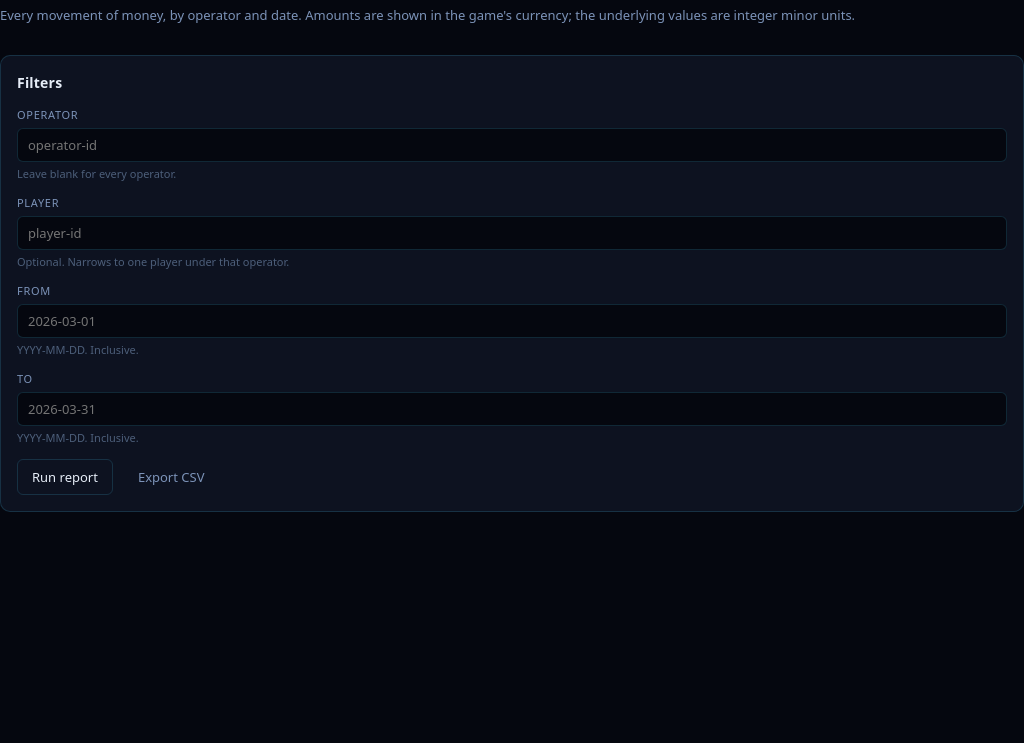
Test case: running a report › shows money as money, not as raw minor units
The image size is (1024, 743).
Step 1. Click the button "Run report" → (65, 476), box top-left (17, 458), bottom-right (113, 494)
(page scrolled)
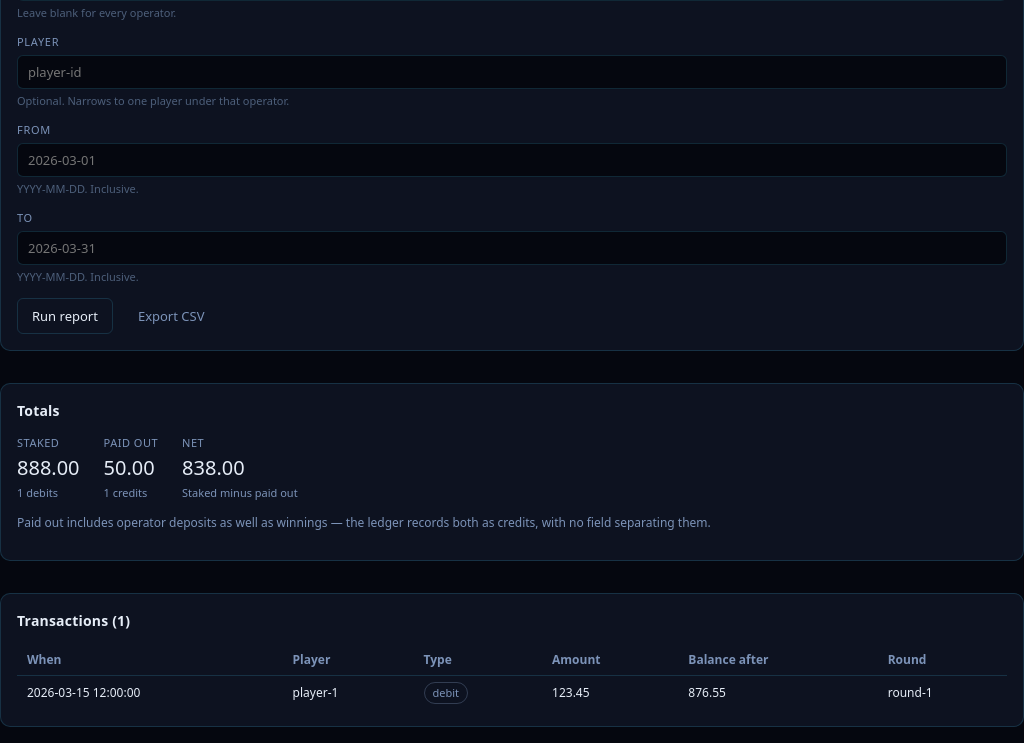
Now the text "123.45" is shown, box top-left (542, 675), bottom-right (678, 710)
